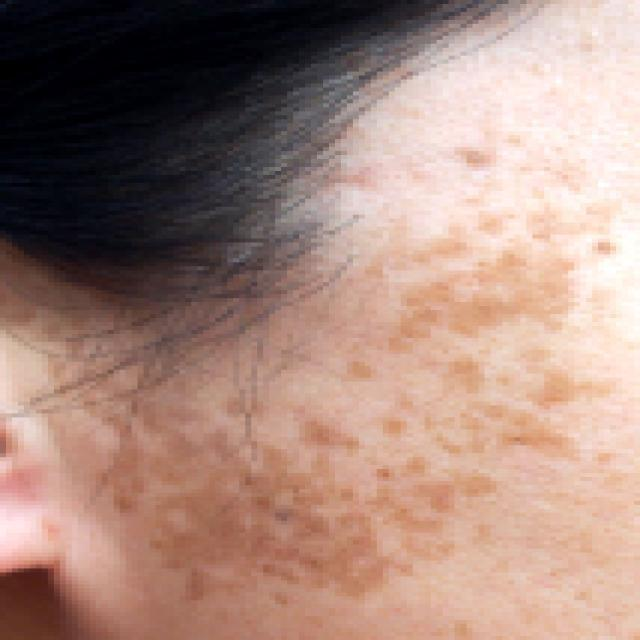Melasma: (89, 136, 615, 601)
